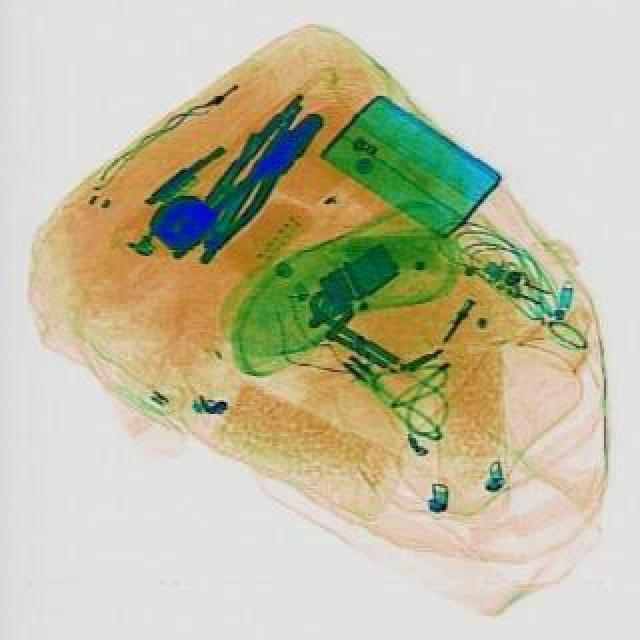wrench: (162, 106, 334, 282)
